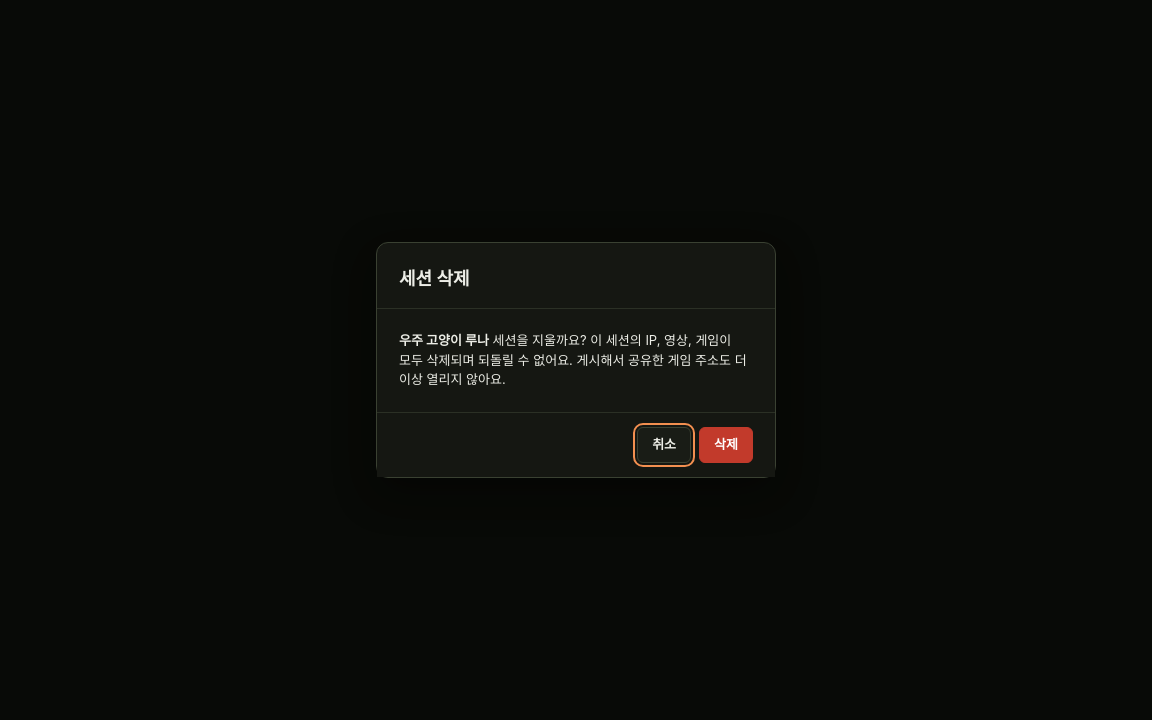
Test case: 최근 세션: each row has a delete action behind a confirm dialog › keeps the dialog open with the reason when the server refuses (409)
Earlier steps of the test are not shown.
Click the button "삭제" at point(726, 445), box [699, 427, 753, 463]
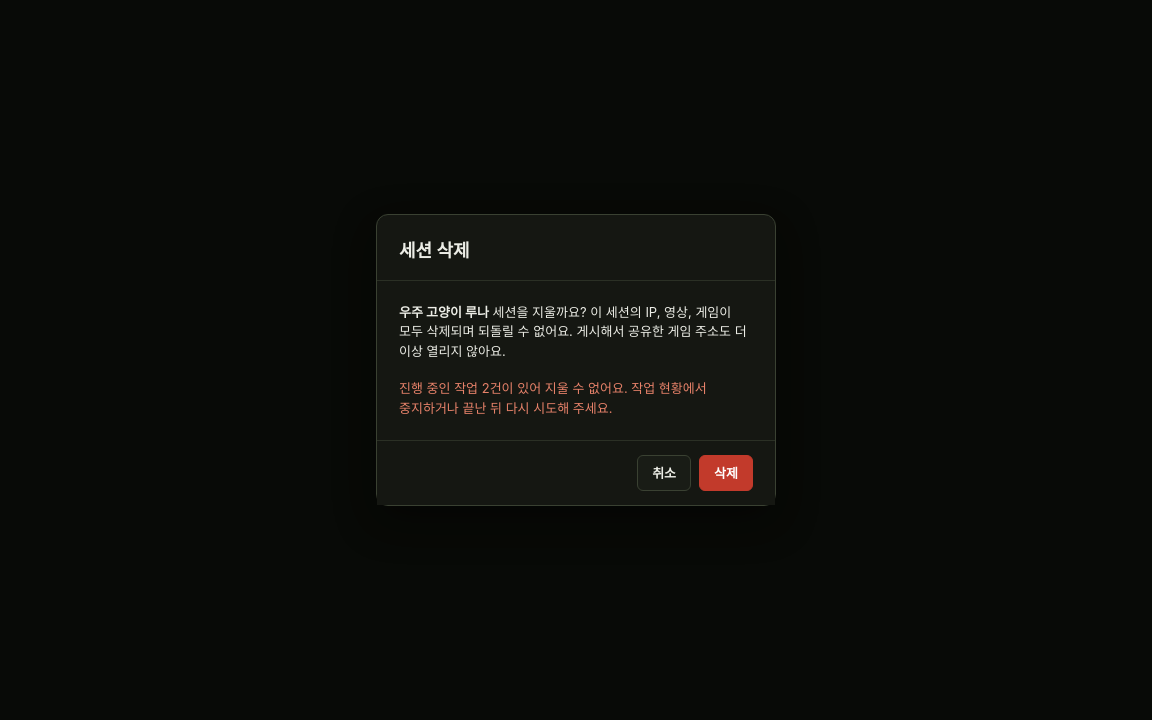
Check: the button "삭제" is enabled, box [699, 455, 753, 491]
Check: the message "진행 중인 작업 2건이 있어 지울 수 없어요. 작업 현황에서 중지하거나 끝난 뒤 다시 시도해 주세요." is shown, box [399, 379, 753, 418]
